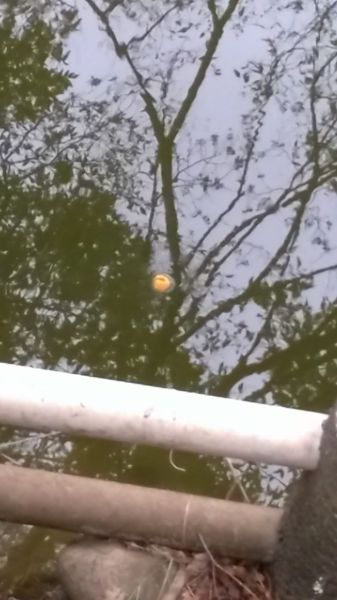eggs: (148, 269, 175, 294)
